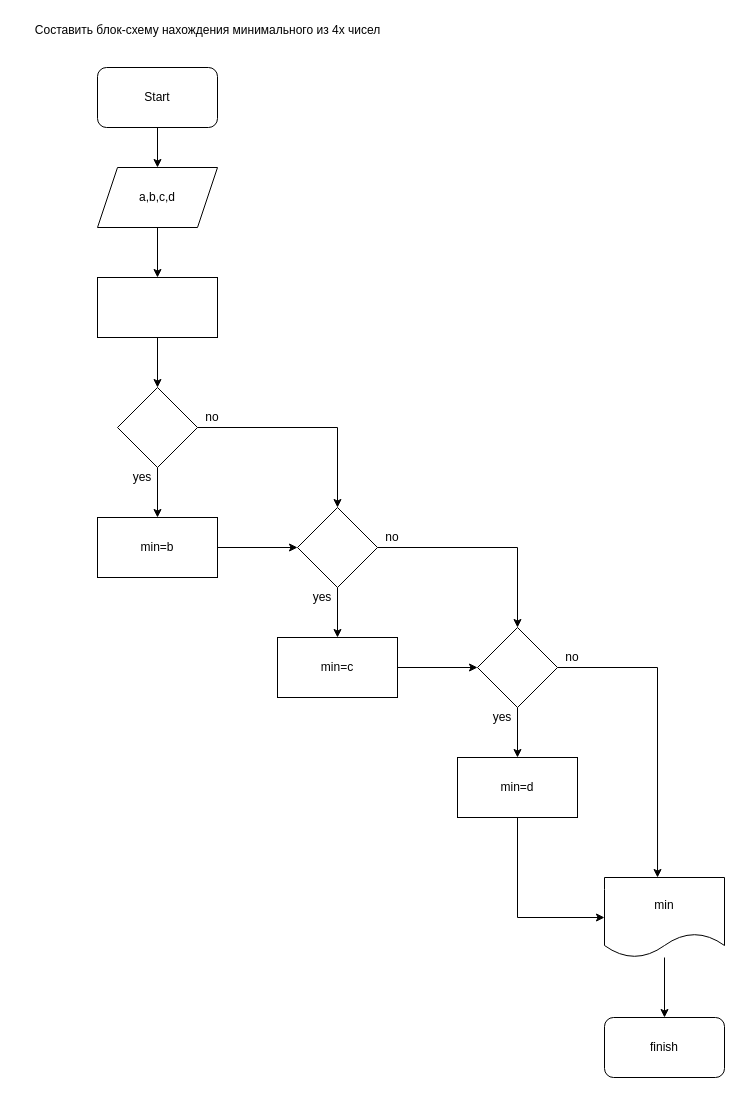
Image size: 742x1095. Some labels were removed from this diagram. The shapes that lost their labels are listed below. From the top down, each one's centre as x and y in pixels, then its label:
(157,307): min=a
(157,427): min<b
(337,547): min<c
(517,667): min<d
